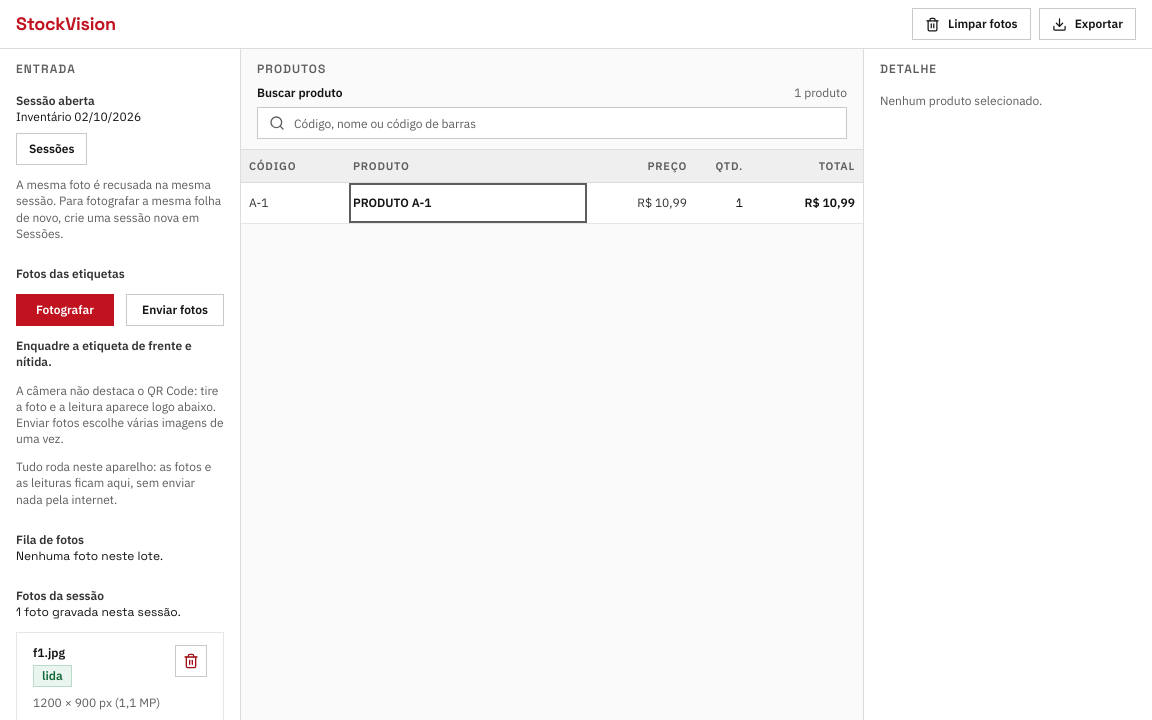
Test case: App com a coluna Produtos › deixa o foco na tabela quando a tela é larga
Click the button "PRODUTO A-1" at [468, 203], box [353,187,583,219]
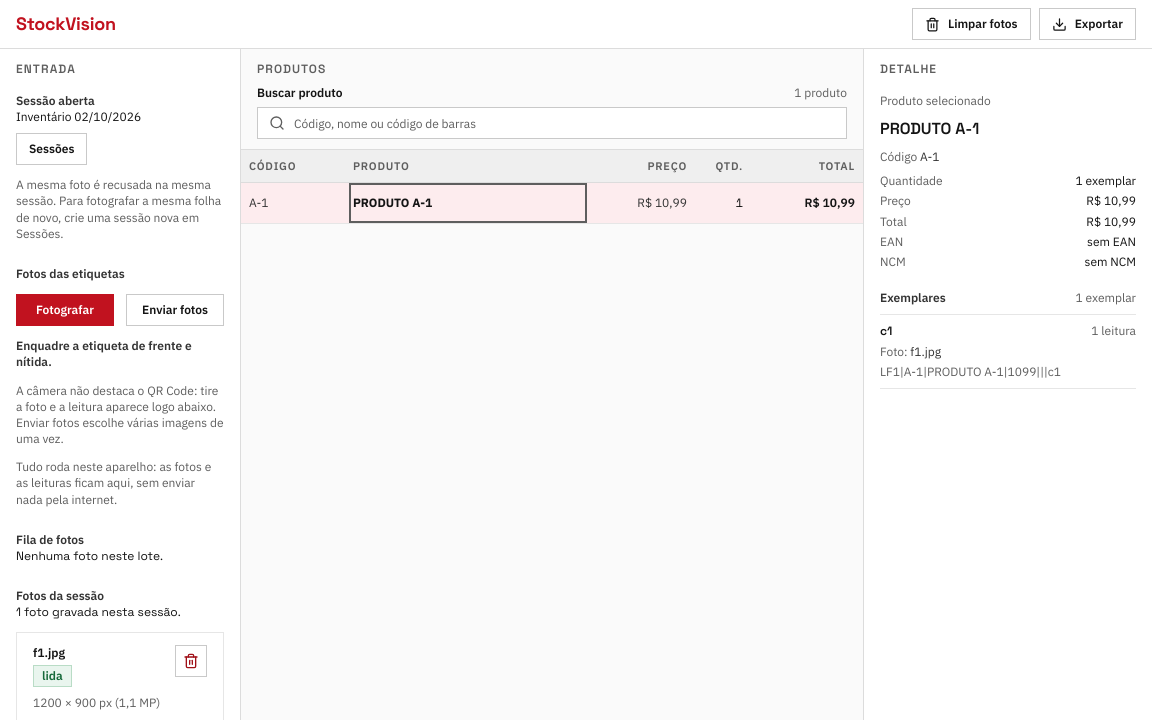
Check: the heading "PRODUTO A-1" is shown, box [880,118,979,139]
